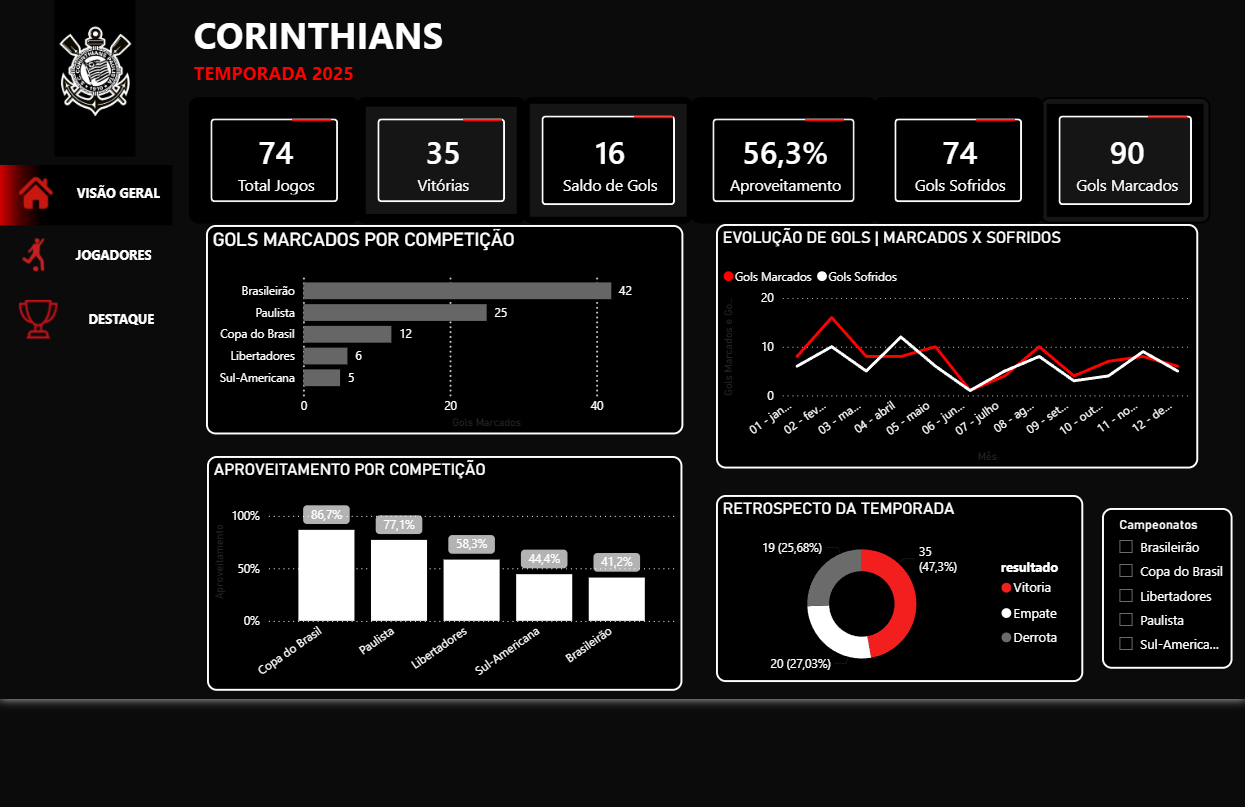

What the dashboard file says about the page in this screenshot:
{"tool":"powerbi","page":{"name":"Visão Geral","canvas":[1280,720],"ordinal":0},"visuals":[{"type":"cardVisual","fields":{"Data":["Jogos.Total Jogos"]},"box":[194.5,102.1,175,130],"z":0},{"type":"cardVisual","fields":{"Data":["Jogos.Vitórias"]},"box":[366.3,102.1,175,130],"z":1000},{"type":"cardVisual","fields":{"Data":["Jogos.Saldo de Gols"]},"box":[538.1,102,175,130],"z":2000},{"type":"cardVisual","fields":{"Data":["Jogos.Gols Pró"]},"box":[1069,102,175.1,130],"z":3000},{"type":"cardVisual","fields":{"Data":["Jogos.Gols Contra"]},"box":[897.3,102,175,130],"z":4000},{"type":"cardVisual","fields":{"Data":["Jogos.Aproveitamento"]},"box":[709.8,102.1,190.6,130.3],"z":5000},{"type":"textbox","box":[194.5,6.8,290.8,59.3],"z":6000},{"type":"textbox","box":[194.5,59.3,244.1,42.8],"z":7000},{"type":"image","box":[1.9,0,192.6,163.4],"z":8000},{"type":"barChart","title":"GOLS MARCADOS POR COMPETIÇÃO","fields":{"Category":["Jogos.competicao"],"Y":["Jogos.Gols Marcados"]},"box":[212,233.4,490.2,215],"z":9000},{"type":"lineChart","title":"EVOLUÇÃO DE GOLS | MARCADOS X SOFRIDOS","fields":{"Category":["Jogos.Mês"],"Y":["Jogos.Gols Marcados","Jogos.Gols Contra"]},"box":[748.9,232.5,495.1,250.9],"z":10000},{"type":"lineStackedColumnComboChart","title":"APROVEITAMENTO POR COMPETIÇÃO","fields":{"Category":["Jogos.competicao"],"Y":["Jogos.Aproveitamento"]},"box":[214,469.8,488.3,241.2],"z":11000},{"type":"actionButton","box":[1.9,221.8,167.3,83.6],"z":12000},{"type":"actionButton","box":[1.9,179,152.7,42.8],"z":13000},{"type":"actionButton","box":[1.9,305.4,143,54.5],"z":14000},{"type":"shape","box":[300.5,110.9,40,29.2],"z":15000},{"type":"shape","box":[475.6,110.9,40,29.2],"z":16000},{"type":"shape","box":[825,110.9,40,29.2],"z":17000},{"type":"shape","box":[998,110.9,40,29.2],"z":18000},{"type":"shape","box":[1179,108,40,29.2],"z":19000},{"type":"shape","box":[652.6,108,40,29.2],"z":20000},{"type":"donutChart","title":"RETROSPECTO DA TEMPORADA","fields":{"Category":["Jogos.resultado"],"Y":["Jogos.Total Jogos"]},"box":[748.9,510.6,377.4,191.6],"z":21000}]}

Visuals, with their boxes on the page's 1280x720 design canvas (x1, y1, x2, y2). These are canvas units, not pixel positions in the 1245x807 screenshot, which may show the page scaled, cropped or inside an application window:
cardVisual - Jogos.Total Jogos: 194 102 370 232
cardVisual - Jogos.Vitórias: 366 102 541 232
cardVisual - Jogos.Saldo de Gols: 538 102 713 232
cardVisual - Jogos.Gols Pró: 1069 102 1244 232
cardVisual - Jogos.Gols Contra: 897 102 1072 232
cardVisual - Jogos.Aproveitamento: 710 102 900 232
textbox: 194 7 485 66
textbox: 194 59 439 102
image: 2 0 194 163
"GOLS MARCADOS POR COMPETIÇÃO" barChart: 212 233 702 448
"EVOLUÇÃO DE GOLS | MARCADOS X SOFRIDOS" lineChart: 749 232 1244 483
"APROVEITAMENTO POR COMPETIÇÃO" lineStackedColumnComboChart: 214 470 702 711
actionButton: 2 222 169 305
actionButton: 2 179 155 222
actionButton: 2 305 145 360
shape: 300 111 340 140
shape: 476 111 516 140
shape: 825 111 865 140
shape: 998 111 1038 140
shape: 1179 108 1219 137
shape: 653 108 693 137
"RETROSPECTO DA TEMPORADA" donutChart: 749 511 1126 702
